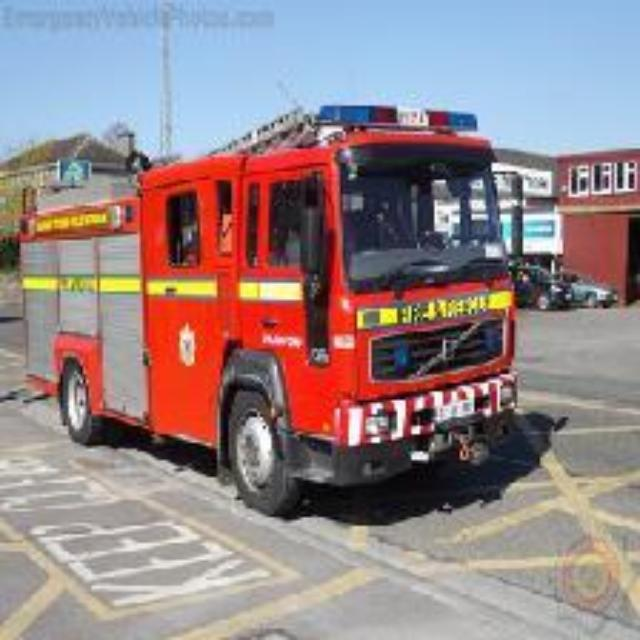emergency: (11, 110, 508, 490)
